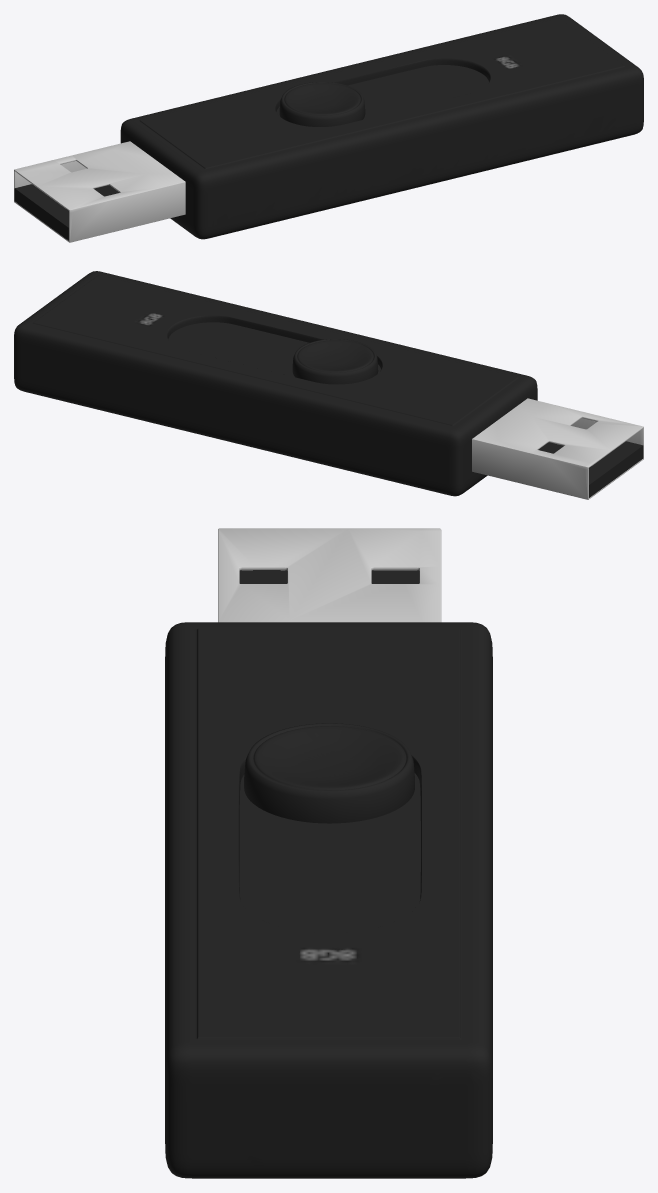
The model's file is dev-usb-flash_lod1.glb.
3 views of the same model, one above another, from view 1: azimuth 30°, elevation 25°; view 2: azimuth 150°, elevation 25°; view 3: azimuth 270°, elevation 25° (orthographic). The views are drawn at different scales.
Parts seen in each view (by area): view 1: body; view 2: body; view 3: body.
Boxes of the visible parts, x1,y1,x2,y2 form: body: [14, 14, 643, 242]; body: [14, 271, 643, 499]; body: [165, 528, 492, 1178].
Bounding box in the file's own units: 0.06 × 0.00767 × 0.0151.
3 materials, 2 textured.
